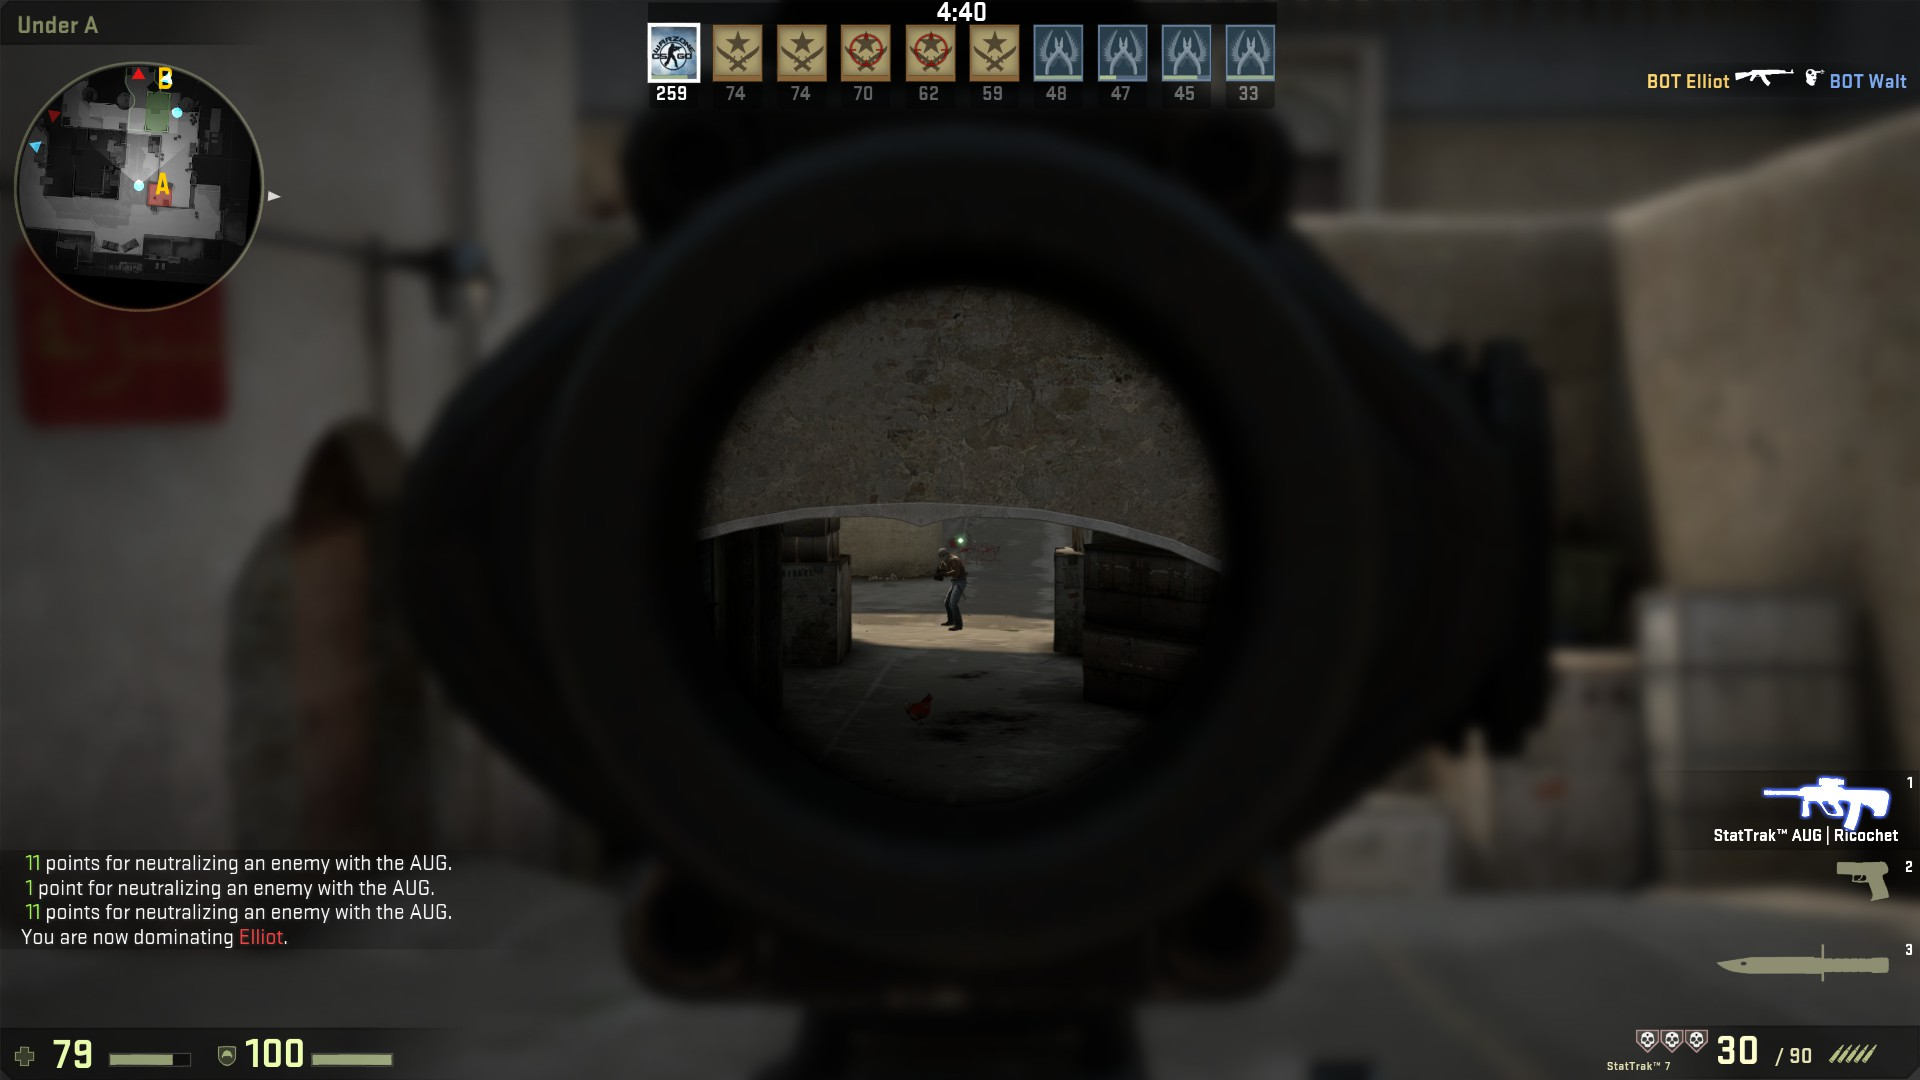t: (934, 547, 971, 632)
th: (935, 546, 952, 560)
